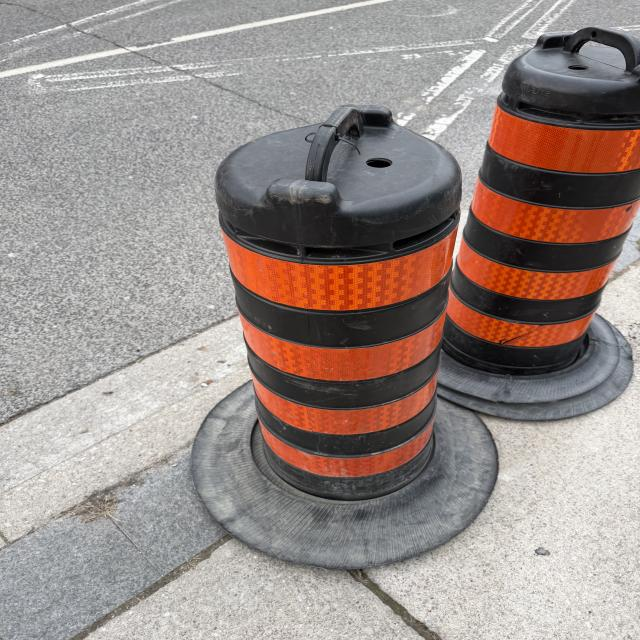Teraffic Barrel: (193, 106, 497, 568), (439, 27, 640, 419)
